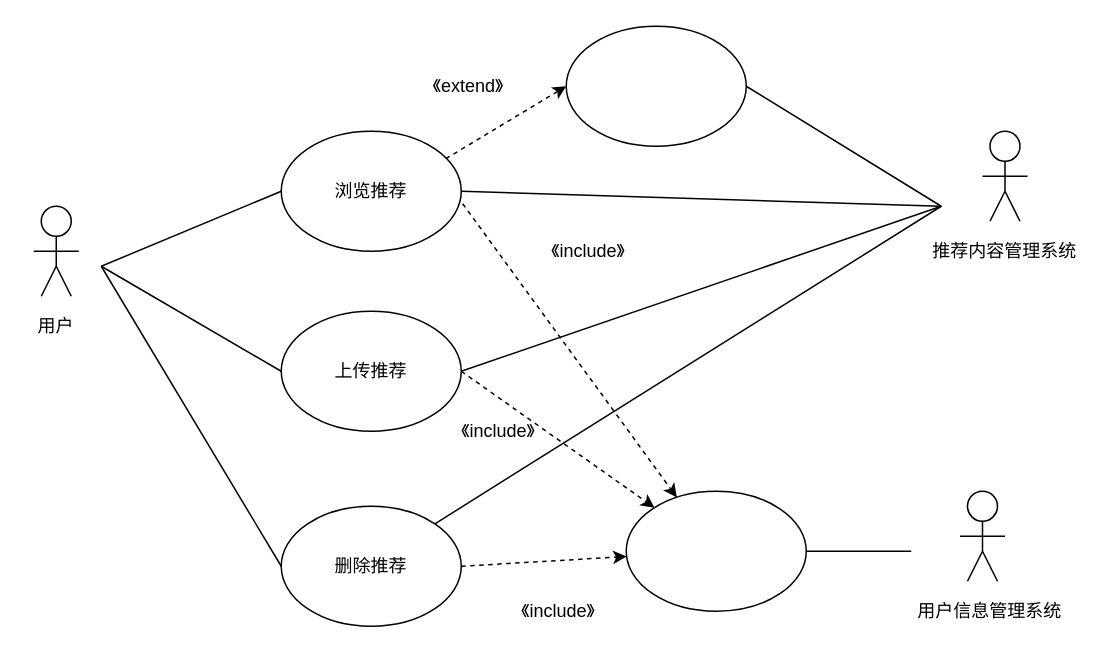
The diagram is 1109 pixels wide and 653 high, and some of its shapes have lost their labels. The centre of each missing label's shape, as x and y in pixels:
"注册/登录" goes at point 715,550.
"点赞推荐" goes at point 655,85.
